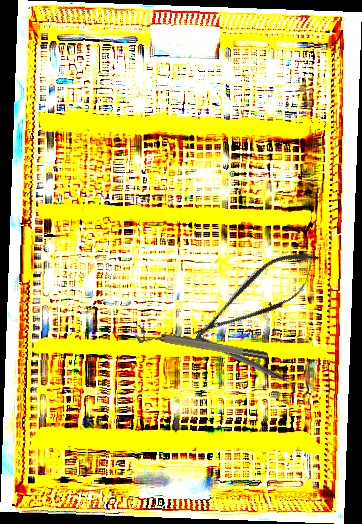Chopper: (191, 334, 302, 395)
Fixation Ring: (134, 324, 269, 368)
Micro Scissor: (182, 237, 331, 356)
